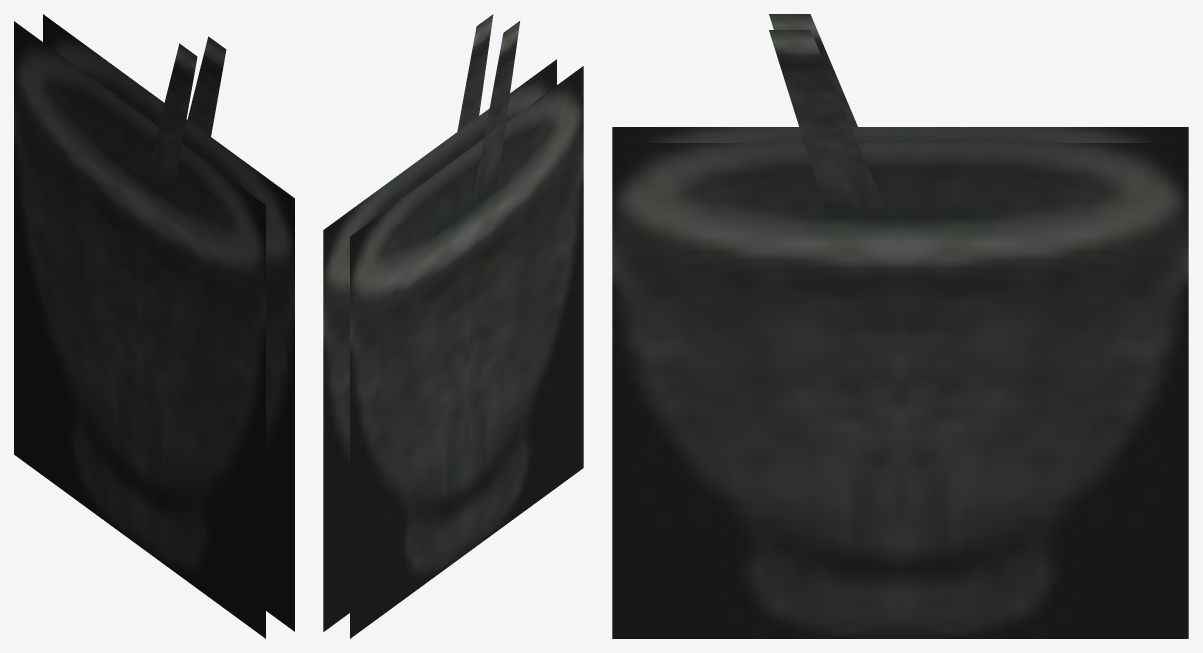
File: sign1_eng_c_icon_chemist.fbx
The picture shows the model from 3 angles, left to right: view 1: azimuth 30°, elevation 25°; view 2: azimuth 150°, elevation 25°; view 3: azimuth 270°, elevation 25°; orthographic projection. The views are drawn at different scales.
Parts seen in each view (by area): view 1: mortor, pestle; view 2: mortor, pestle; view 3: mortor, pestle.
Boxes of the visible parts, box(x1,y1,x2,y2) form: mortor: box(14, 14, 294, 638); pestle: box(146, 36, 226, 194); mortor: box(323, 59, 583, 638); pestle: box(457, 14, 519, 199); mortor: box(612, 127, 1188, 638); pestle: box(769, 14, 885, 208).
Bounding box in the file's own units: 16.67 × 293 × 251.
Materials: 1 (1 with a texture image).
